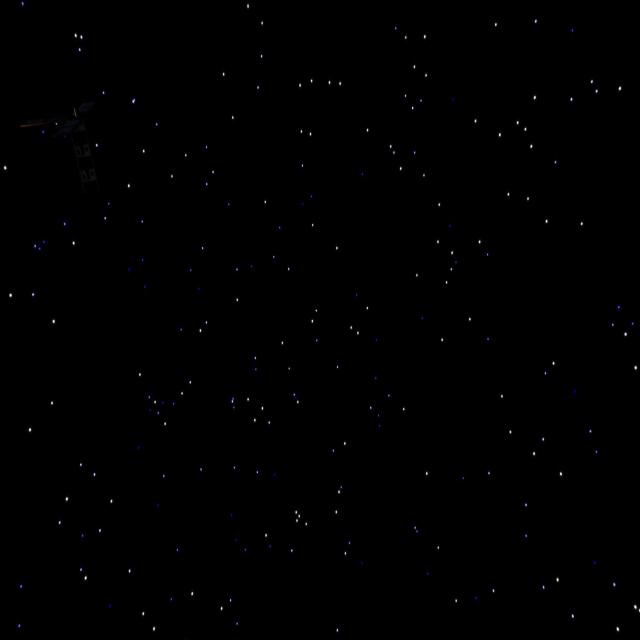medium_debris: (34, 79, 114, 190)
